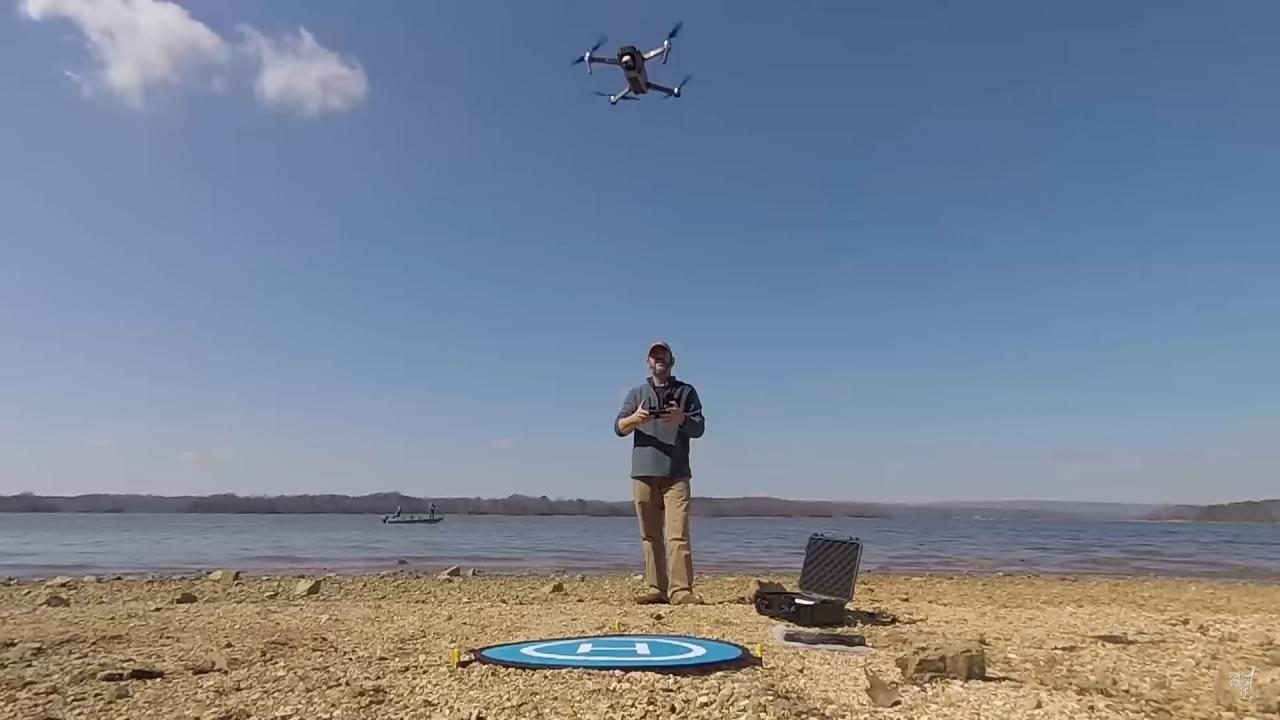Drone: (562, 12, 706, 120)
